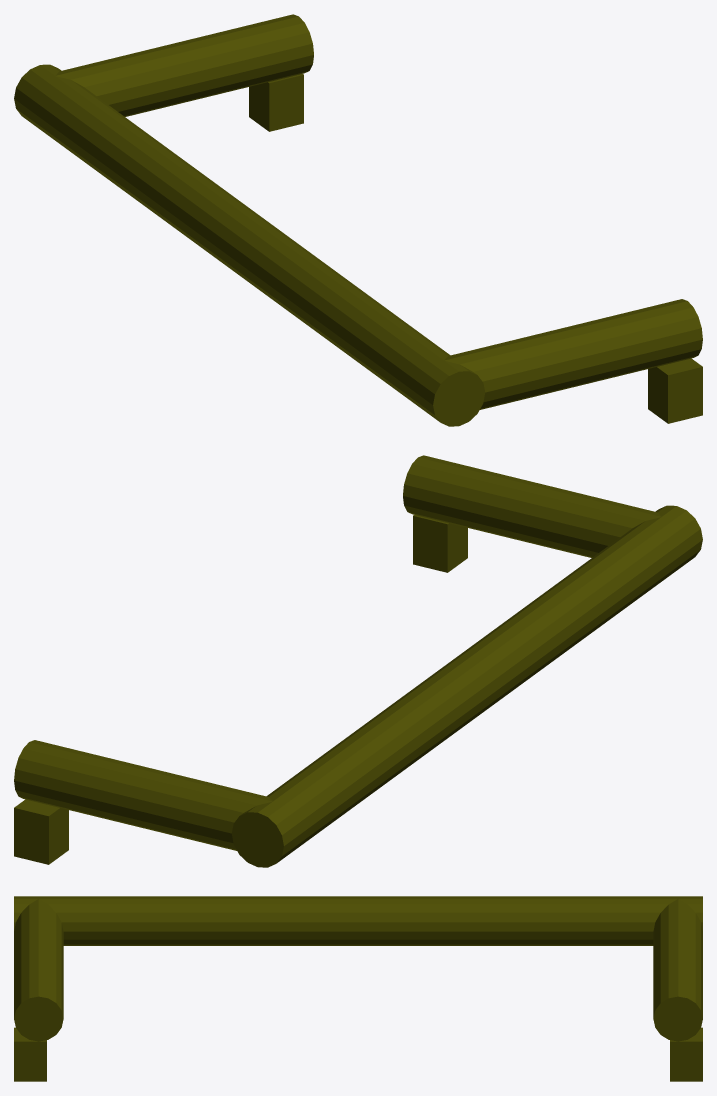
The model's file is restraint.obj.
3 renders of one model, top to bottom at view 1: azimuth 30°, elevation 25°; view 2: azimuth 150°, elevation 25°; view 3: azimuth 270°, elevation 25°, orthographic. The views are drawn at different scales.
Parts seen in each view (by area): view 1: Lap_Bar_Crossbar, Lap_Bar_Arm_R, Lap_Bar_Arm_L, Lap_Bar_Post_R, Lap_Bar_Post_L; view 2: Lap_Bar_Crossbar, Lap_Bar_Arm_L, Lap_Bar_Arm_R, Lap_Bar_Post_L, Lap_Bar_Post_R; view 3: Lap_Bar_Crossbar, Lap_Bar_Arm_L, Lap_Bar_Arm_R, Lap_Bar_Post_L, Lap_Bar_Post_R.
Boxes of the visible parts, bbox=[...] form: Lap_Bar_Crossbar: bbox=[14, 64, 485, 426]; Lap_Bar_Arm_R: bbox=[444, 299, 702, 409]; Lap_Bar_Arm_L: bbox=[55, 14, 313, 116]; Lap_Bar_Post_R: bbox=[648, 358, 702, 423]; Lap_Bar_Post_L: bbox=[249, 74, 303, 131]; Lap_Bar_Crossbar: bbox=[231, 505, 702, 867]; Lap_Bar_Arm_L: bbox=[14, 740, 272, 850]; Lap_Bar_Arm_R: bbox=[403, 455, 661, 557]; Lap_Bar_Post_L: bbox=[14, 799, 68, 864]; Lap_Bar_Post_R: bbox=[413, 515, 467, 572]; Lap_Bar_Crossbar: bbox=[14, 896, 702, 945]; Lap_Bar_Arm_L: bbox=[653, 899, 702, 1041]; Lap_Bar_Arm_R: bbox=[14, 899, 63, 1041]; Lap_Bar_Post_L: bbox=[670, 1027, 702, 1081]; Lap_Bar_Post_R: bbox=[14, 1027, 46, 1081].
Bounding box in the file's own units: 0.465 × 0.17 × 1.25.
